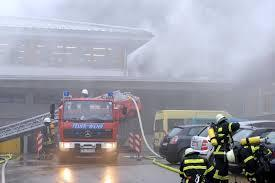smoke: (159, 4, 252, 89)
